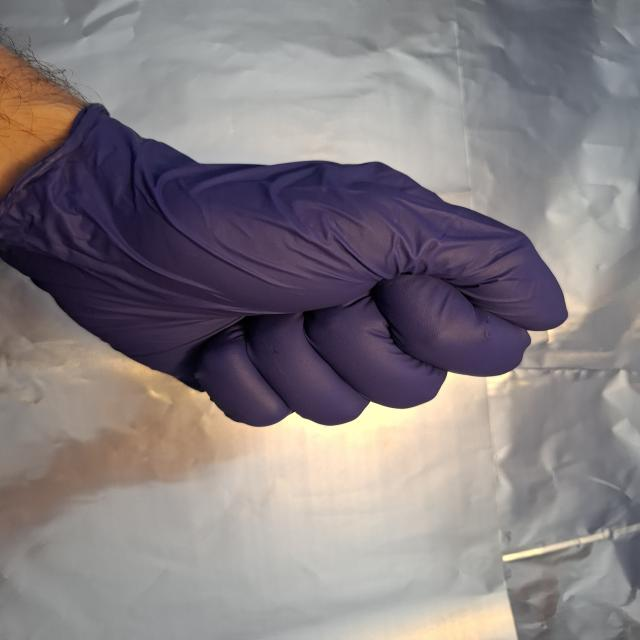glove_on: (0, 98, 575, 430)
